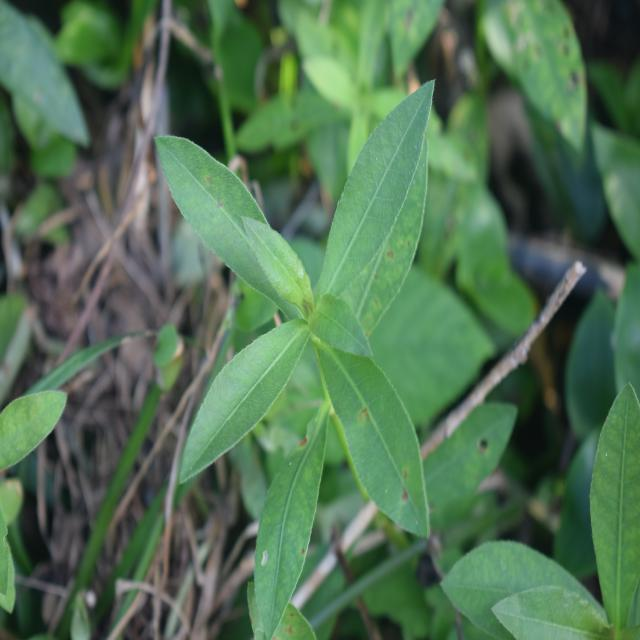Alligatorweed: (162, 104, 444, 548)
